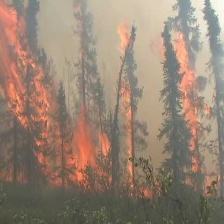fire: (1, 7, 109, 187), (179, 40, 207, 182), (117, 22, 132, 194)
